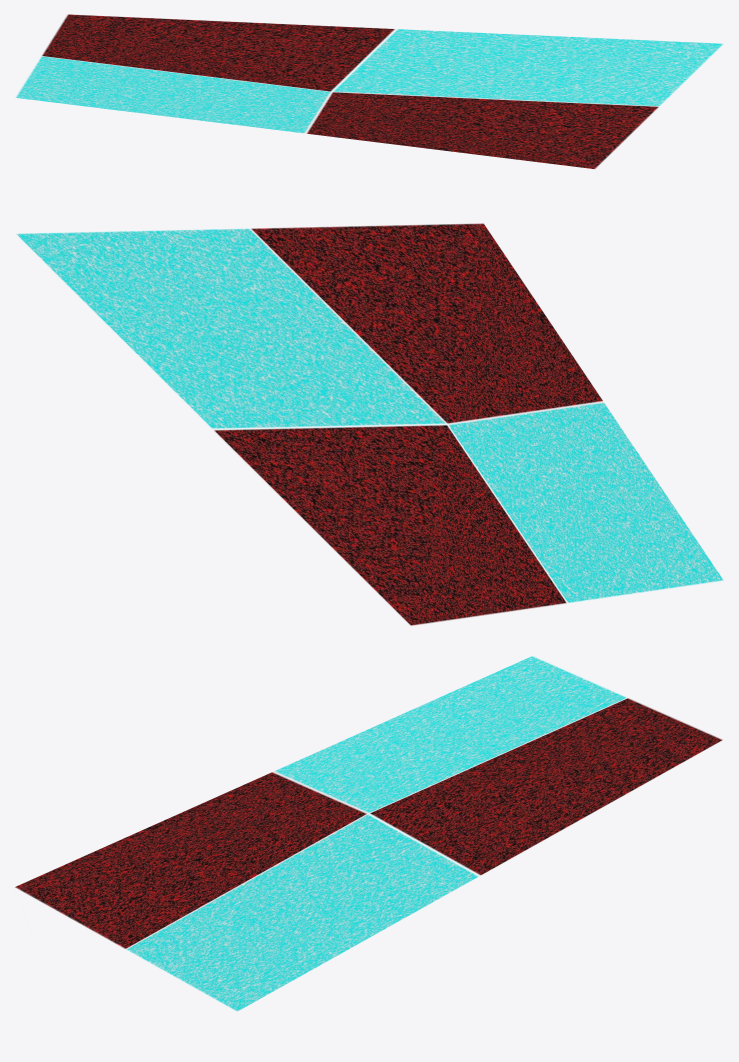
The picture shows the model from 3 angles, top to bottom: view 1: azimuth 30°, elevation 25°; view 2: azimuth 150°, elevation 25°; view 3: azimuth 270°, elevation 25°; orthographic projection. The views are drawn at different scales.
Parts seen in each view (by area): view 1: SM_VFX_GF_River06_LOD0; view 2: SM_VFX_GF_River06_LOD0; view 3: SM_VFX_GF_River06_LOD0.
Part boxes in pixels (x1=…): SM_VFX_GF_River06_LOD0: x1=15, y1=14, x2=723, y2=168; SM_VFX_GF_River06_LOD0: x1=16, y1=223, x2=723, y2=625; SM_VFX_GF_River06_LOD0: x1=15, y1=656, x2=722, y2=1011.
Bounding box in the file's own units: 36.51 × 2.69 × 30.91.
Materials: 1 (1 with a texture image).
